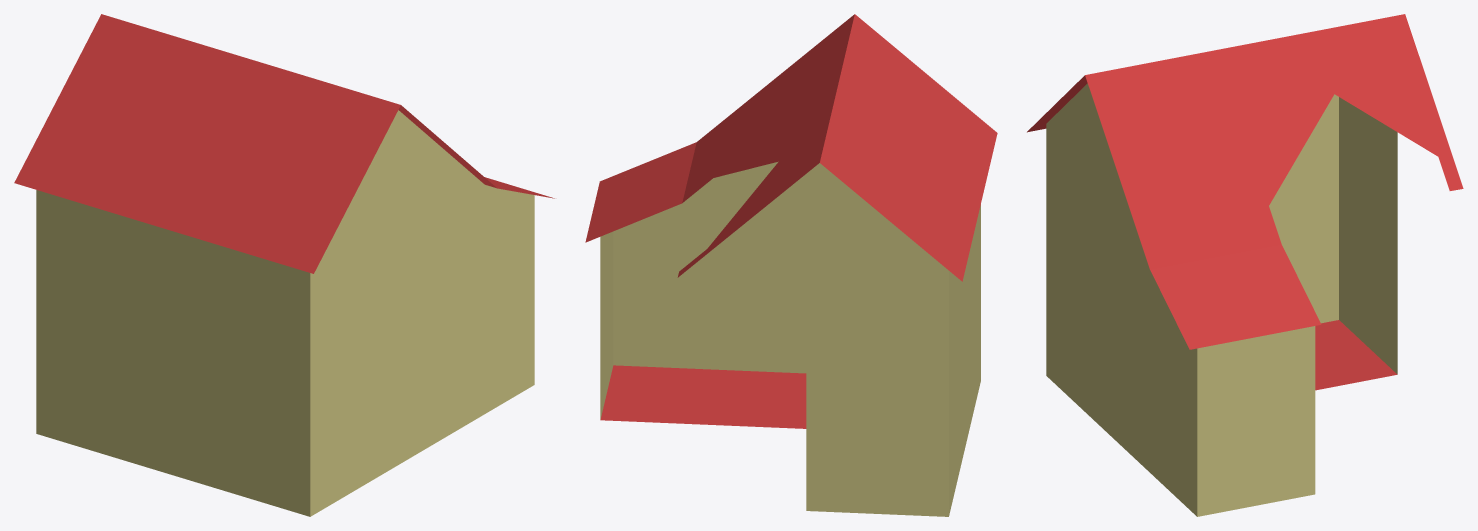
The picture shows the model from 3 angles, left to right: view 1: azimuth 30°, elevation 25°; view 2: azimuth 150°, elevation 25°; view 3: azimuth 270°, elevation 25°; orthographic projection. The views are drawn at different scales.
Bounding box in the file's own units: 16.8 × 14.52 × 12.91.
